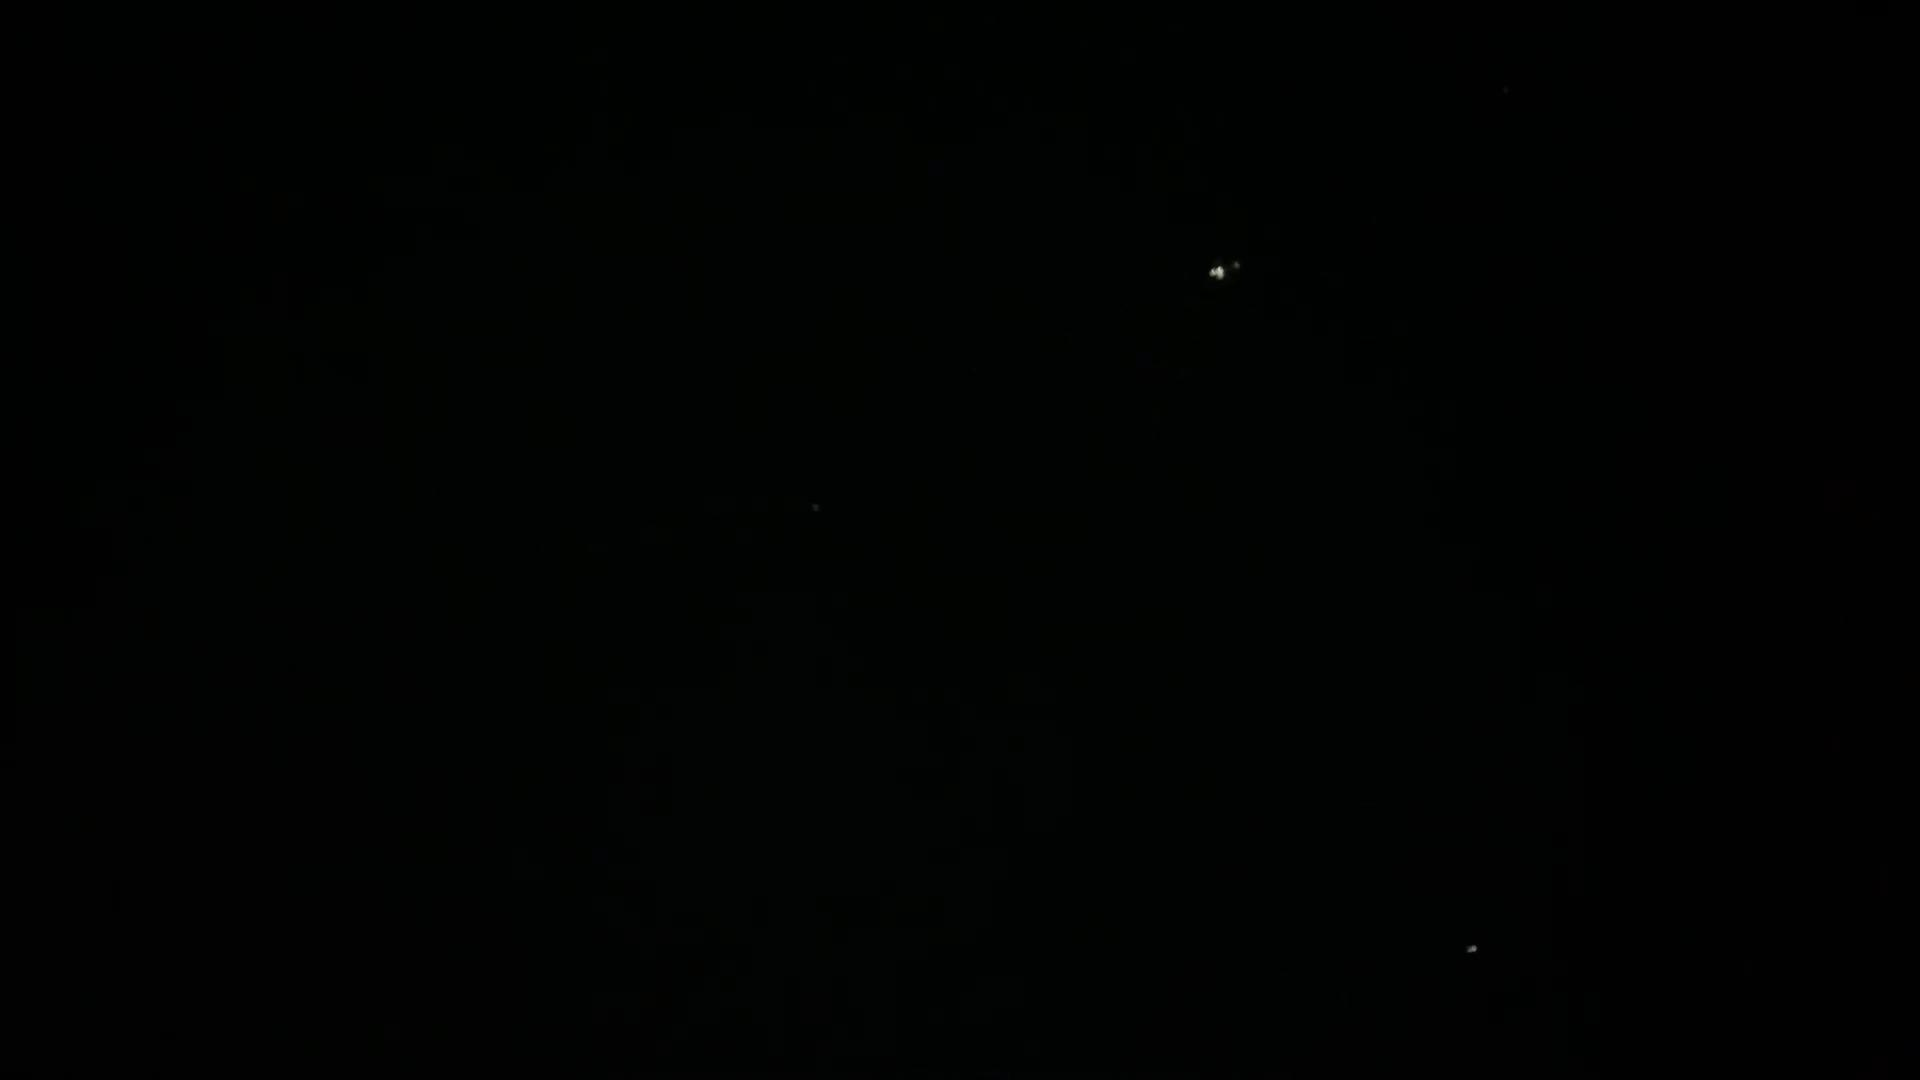Plane: (1193, 243, 1259, 307)
